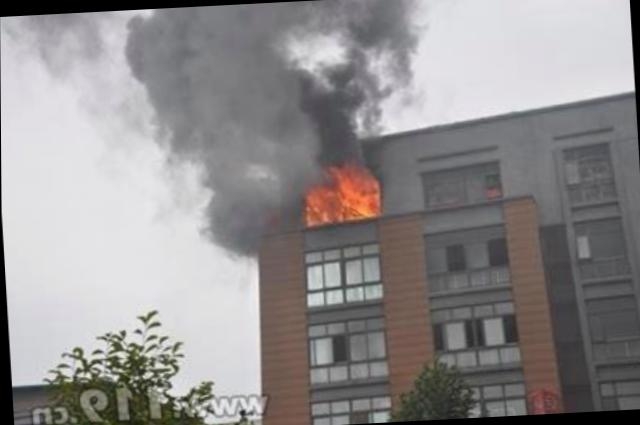fire: (338, 165, 382, 221), (306, 188, 340, 228)
